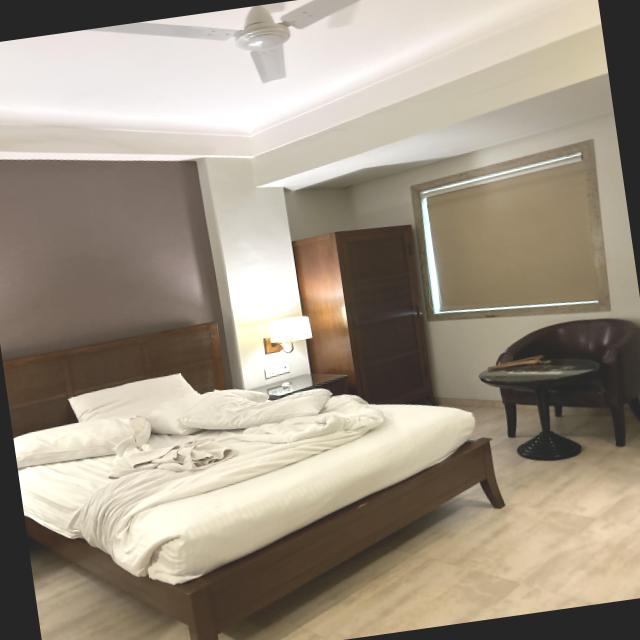mess: (10, 354, 439, 554)
